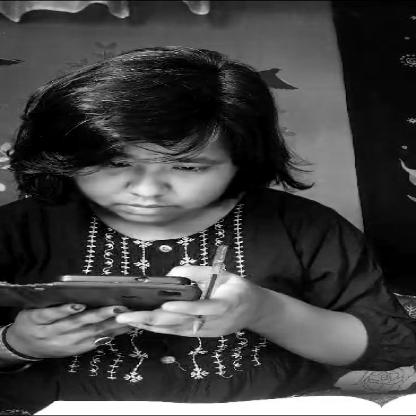Normal: (64, 126, 236, 229)
